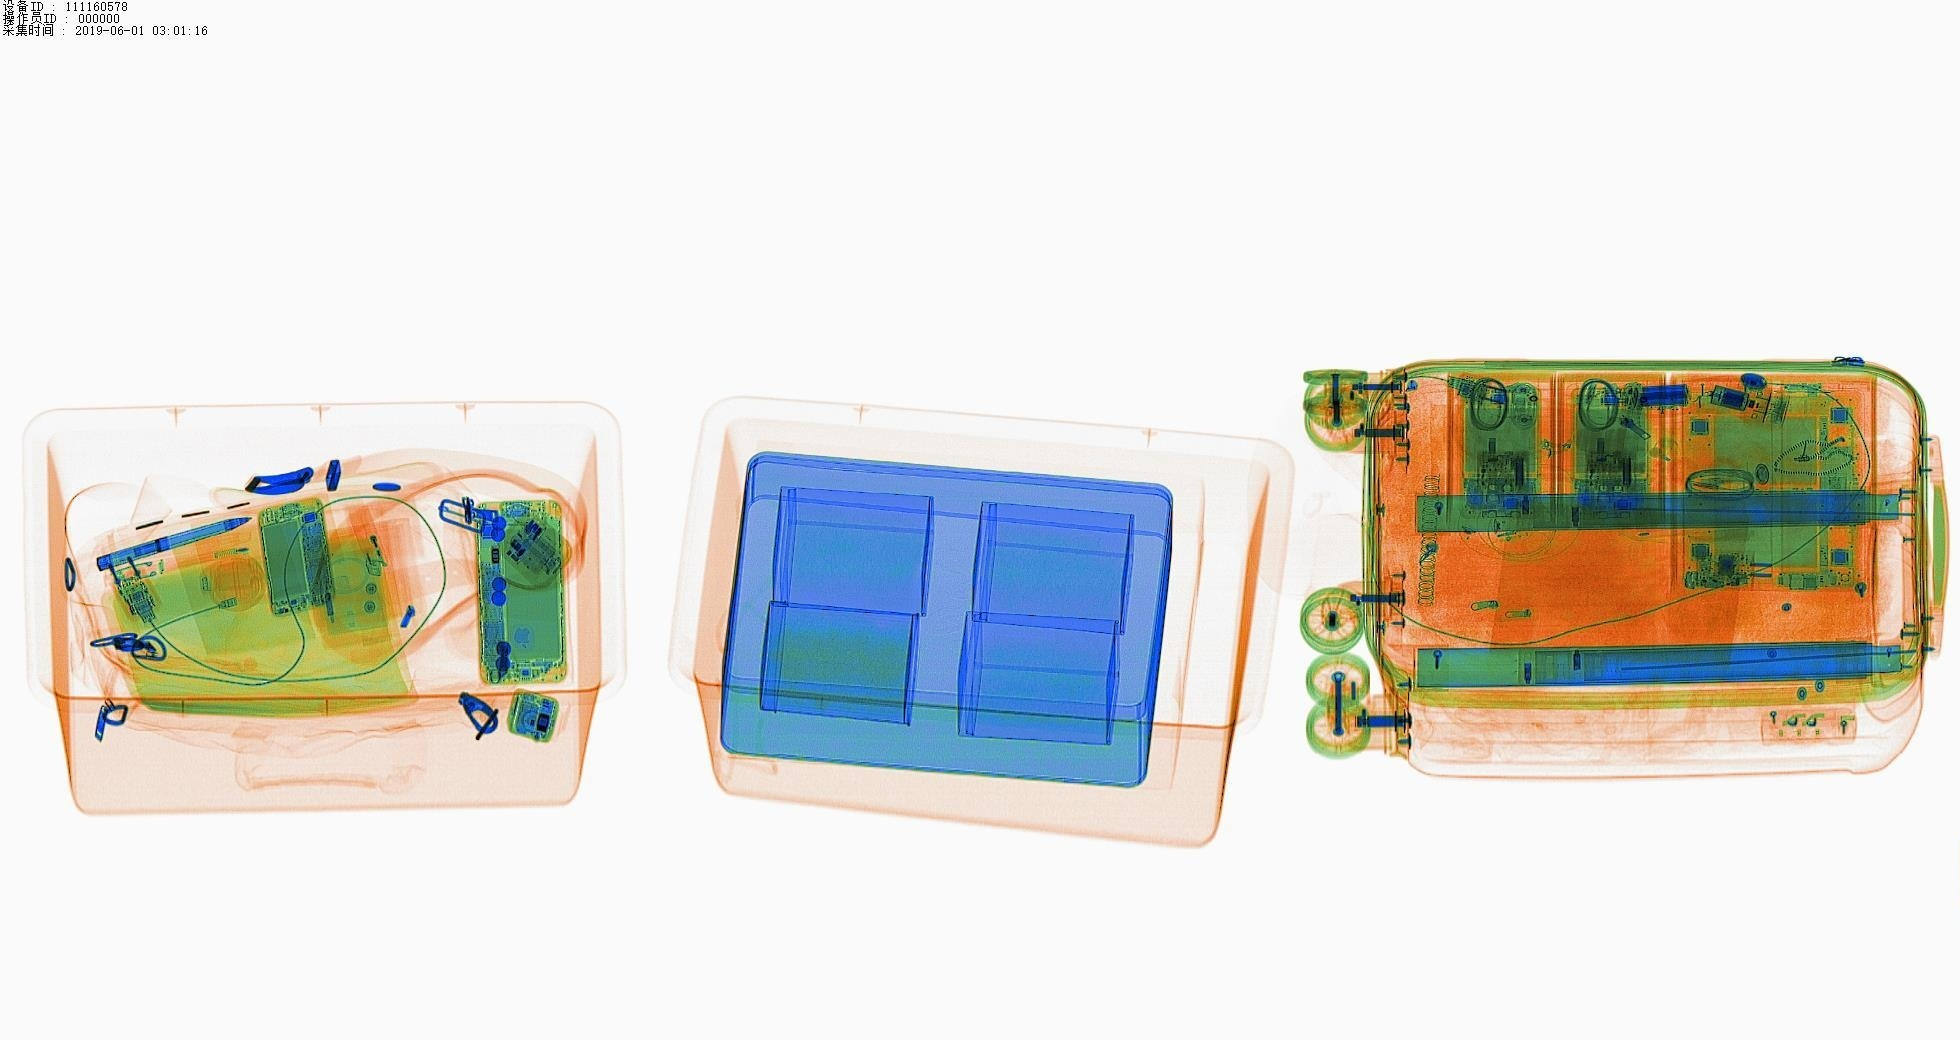NonmetallicFire: (344, 491, 399, 585)
